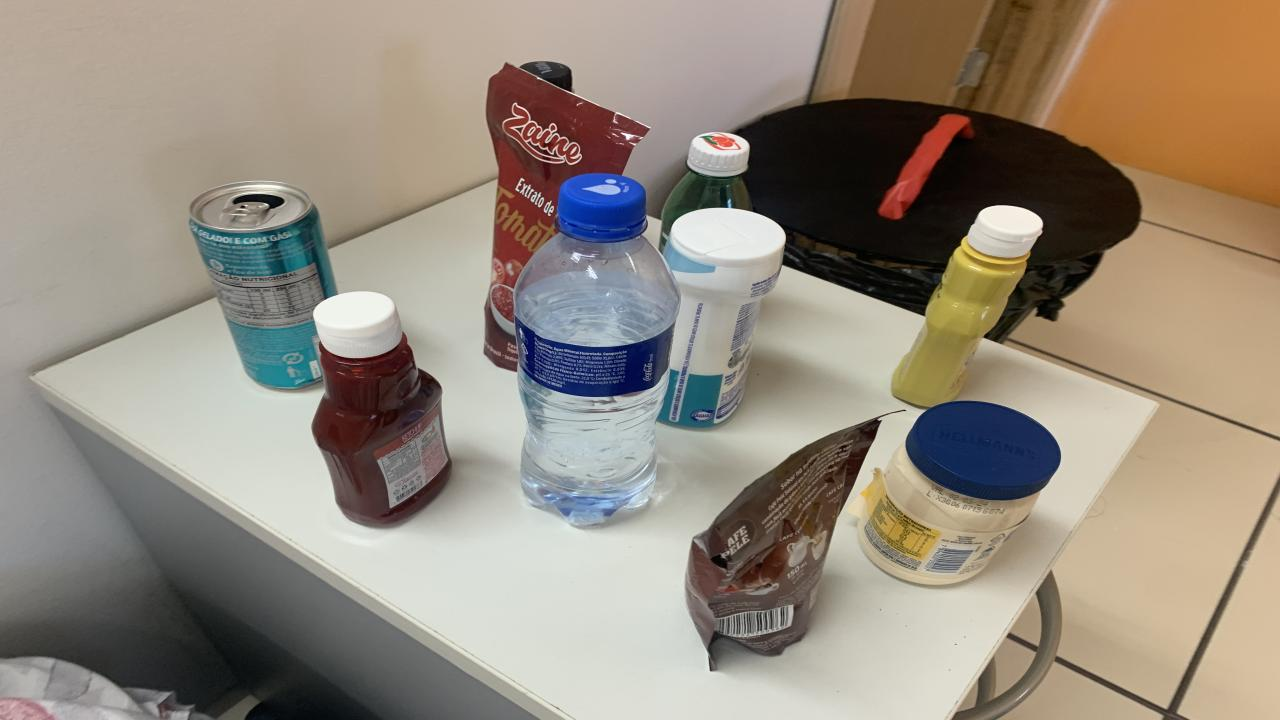Cleaner-Cleanup_Items: (660, 208, 785, 429)
Coffee-Pantry_Items: (685, 416, 880, 656)
Guarana-Drinks: (658, 131, 752, 251)
Ketchup-Pantry_Items: (312, 292, 450, 525)
Mayonnaise-Pantry_Items: (858, 401, 1060, 585)
Mustard-Pantry_Items: (892, 204, 1042, 407)
Soda-Drinks: (520, 62, 572, 92)
Tea-Drinks: (190, 182, 338, 390)
Tomato_Sauce-Pantry_Items: (485, 64, 650, 369)
Water_Bottle-Drinks: (515, 172, 680, 527)
